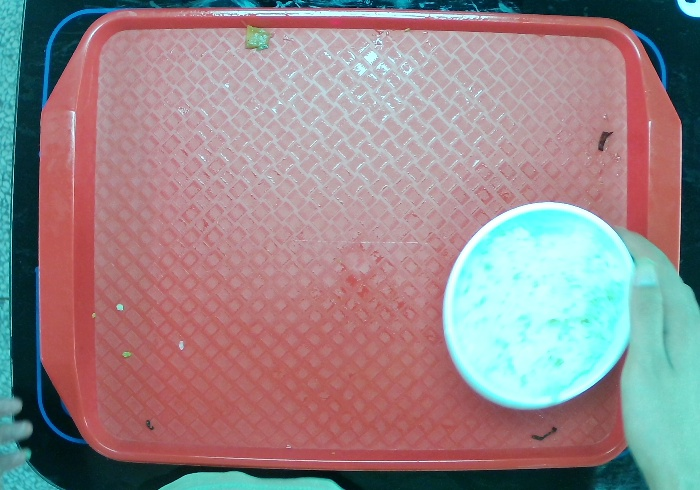YKMZ-Fan_Wan: (439, 198, 638, 412)
